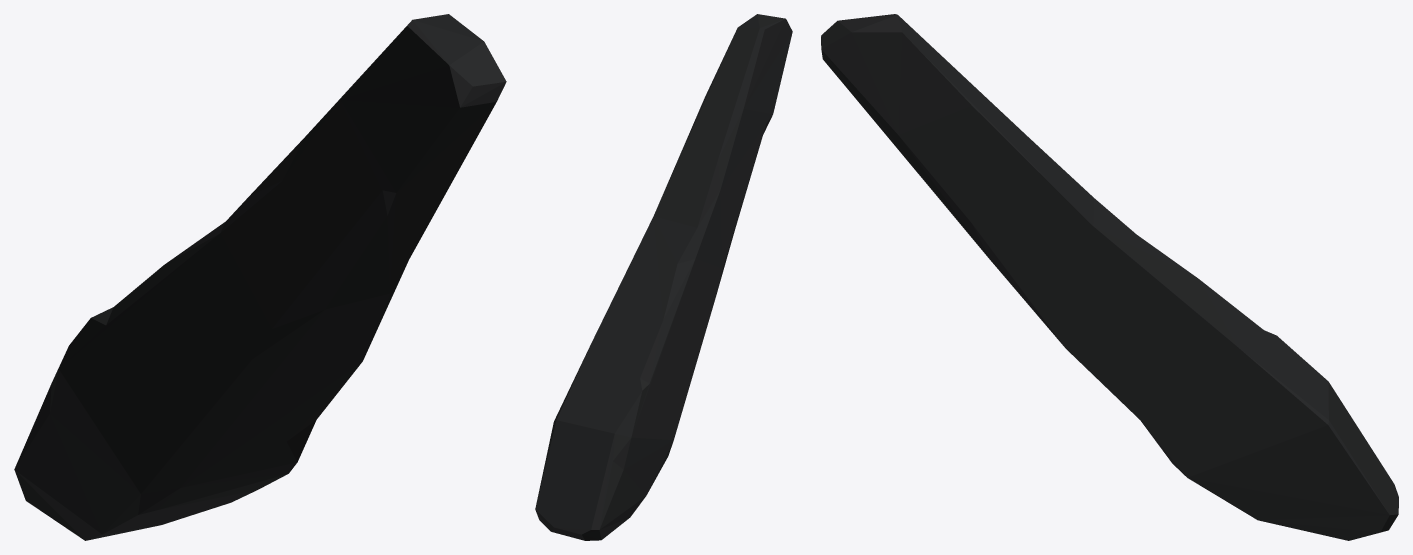
Rendered from Portal_03_Fragment_B.FBX.
3 renders of one model, left to right at view 1: azimuth 30°, elevation 25°; view 2: azimuth 150°, elevation 25°; view 3: azimuth 270°, elevation 25°, orthographic. The views are drawn at different scales.
Visible parts, largest first — view 1: Portal_03_Fragment_B; view 2: Portal_03_Fragment_B; view 3: Portal_03_Fragment_B.
Part boxes in pixels (x1,y1,x2,y2): Portal_03_Fragment_B: (14, 14, 506, 540); Portal_03_Fragment_B: (535, 14, 792, 540); Portal_03_Fragment_B: (821, 14, 1398, 540).
Bounding box in the file's own units: 0.3835 × 1.91 × 2.
